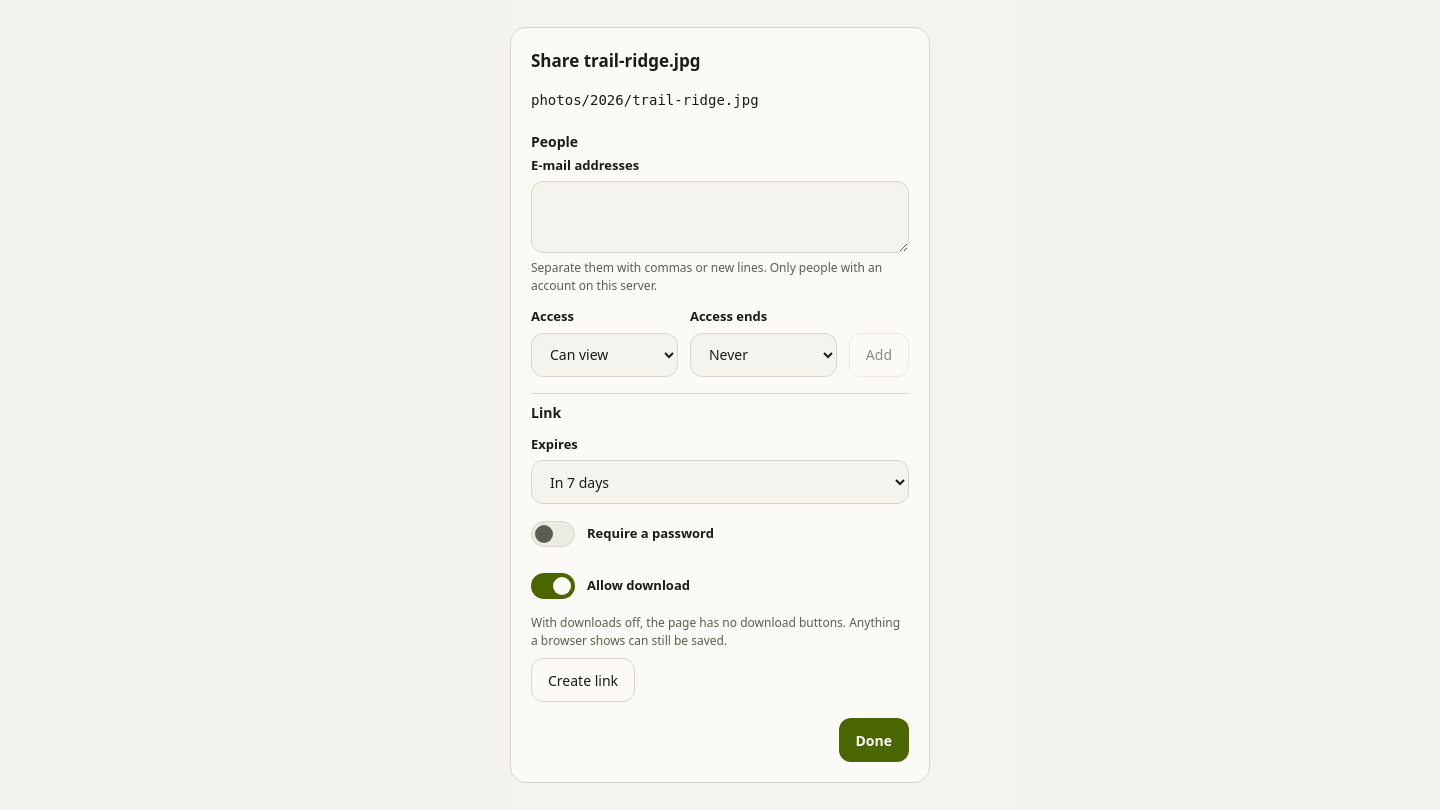
Scenario: creates with defaults
Click the button "Create link": [583, 680] box [531,658,635,702]
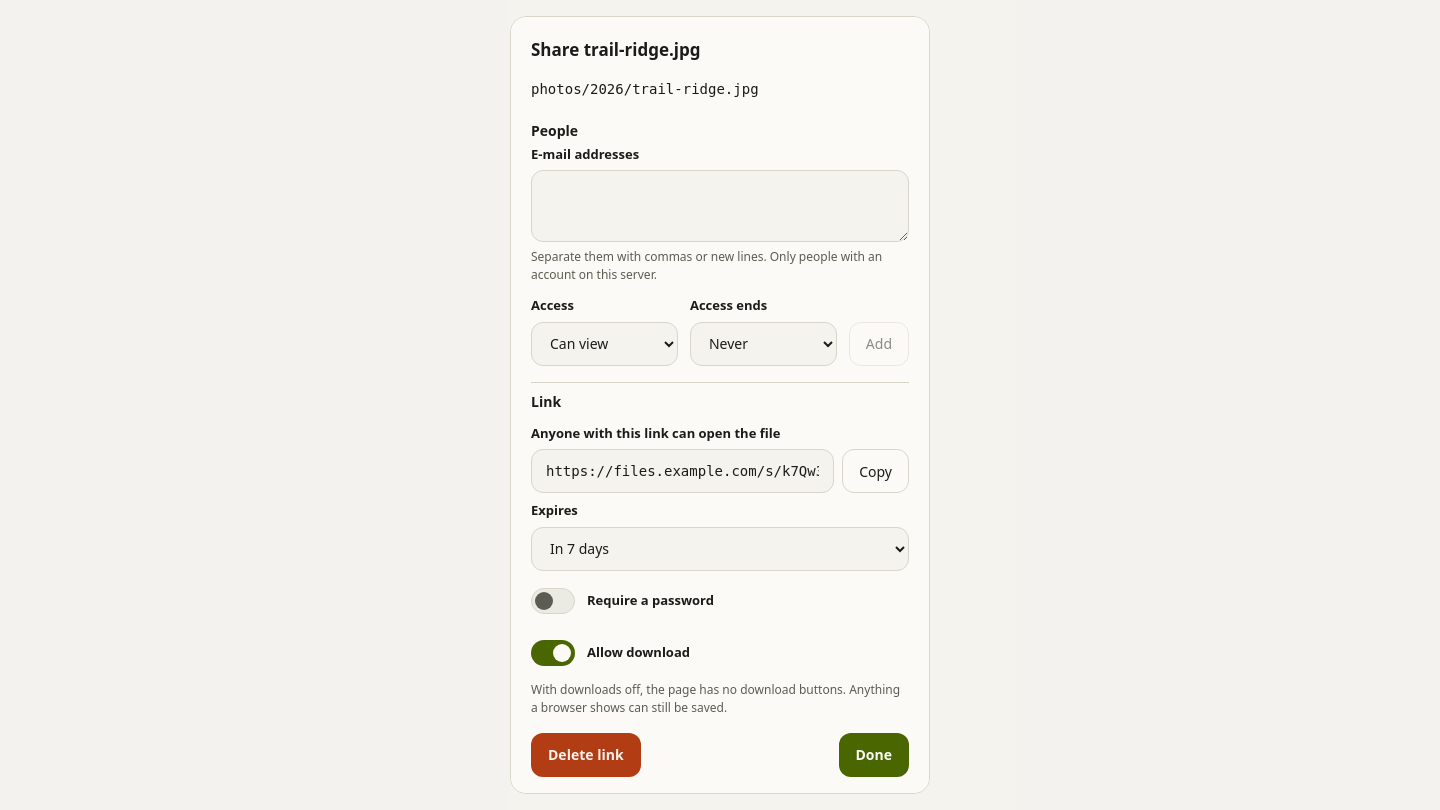
Expected: the field labelled "Anyone with this link can open the file" is shown, [531,449,834,493]
